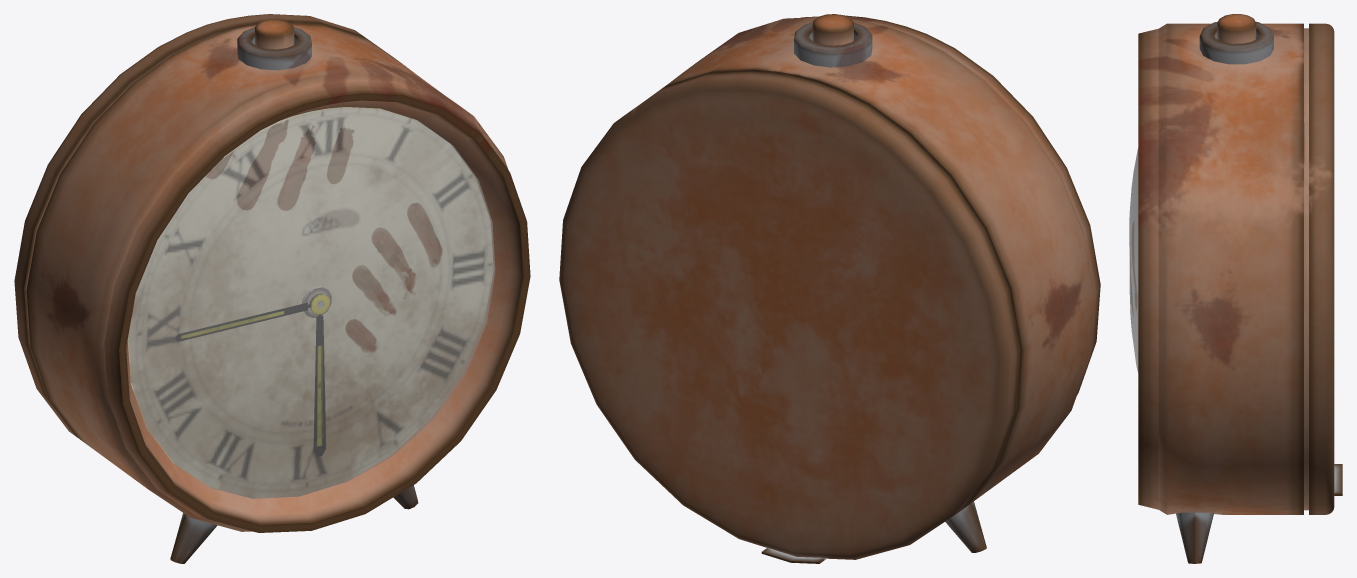
The picture shows the model from 3 angles, left to right: view 1: azimuth 30°, elevation 25°; view 2: azimuth 150°, elevation 25°; view 3: azimuth 270°, elevation 25°; orthographic projection. The views are drawn at different scales.
Parts seen in each view (by area): view 1: Cylinder, glass, Plane.001, Plane; view 2: Cylinder; view 3: Cylinder, glass.
Boxes of the visible parts, <box> form: Cylinder: <box>14,14,530,563</box>; glass: <box>128,108,495,498</box>; Plane.001: <box>313,314,326,456</box>; Plane: <box>175,302,310,341</box>; Cylinder: <box>559,14,1100,563</box>; Cylinder: <box>1138,14,1342,563</box>; glass: <box>1129,148,1138,372</box>.
Size of the model in its own units: 15.39 by 16.9 by 6.69.
Materials: 3 (3 with a texture image).
